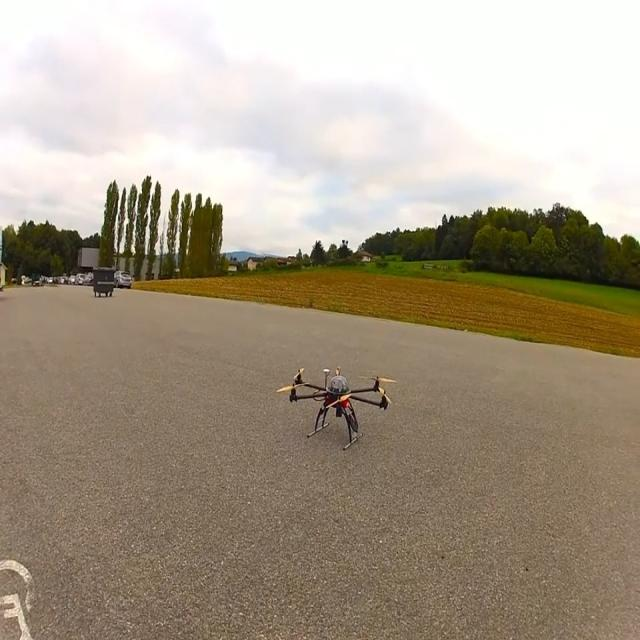drone: (275, 364, 397, 449)
